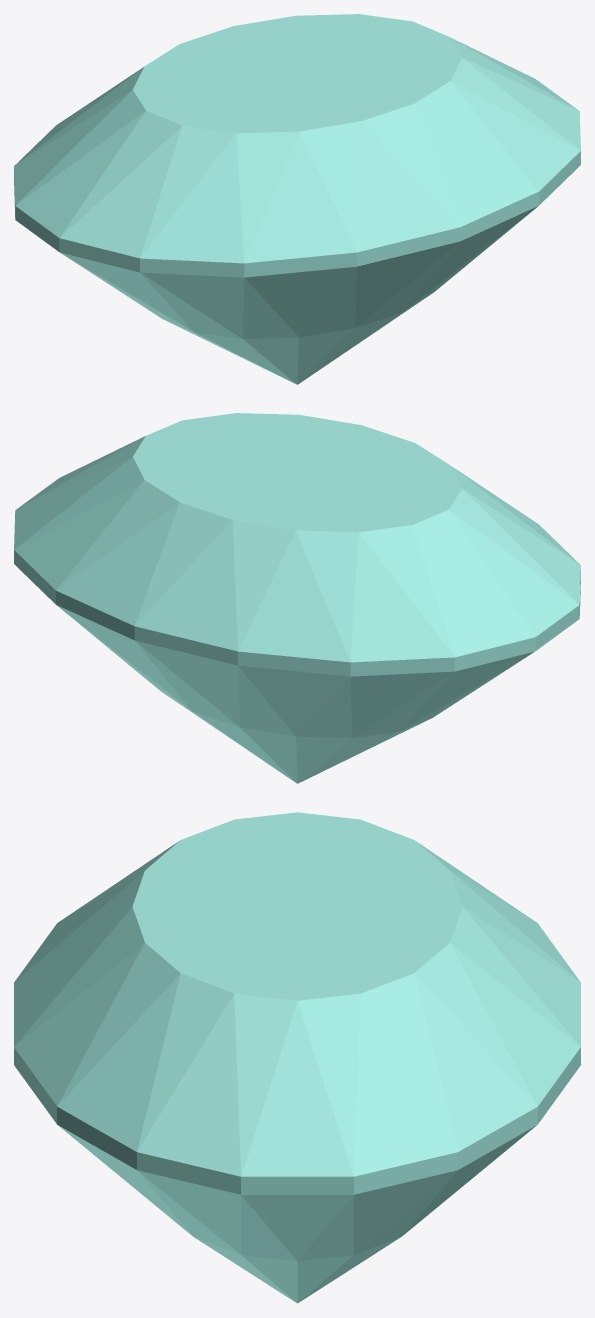
The model's file is paraiba.glb.
3 views of the same model, one above another, from view 1: azimuth 30°, elevation 25°; view 2: azimuth 150°, elevation 25°; view 3: azimuth 270°, elevation 25° (orthographic). The views are drawn at different scales.
Visible parts, largest first — view 1: paraiba; view 2: paraiba; view 3: paraiba.
Boxes of the visible parts, left/top/right/bottom form: paraiba: left=14, top=14, right=580, bottom=384; paraiba: left=14, top=413, right=580, bottom=783; paraiba: left=14, top=812, right=580, bottom=1303.
Size of the model in its own units: 0.25 by 0.1429 by 0.185.
